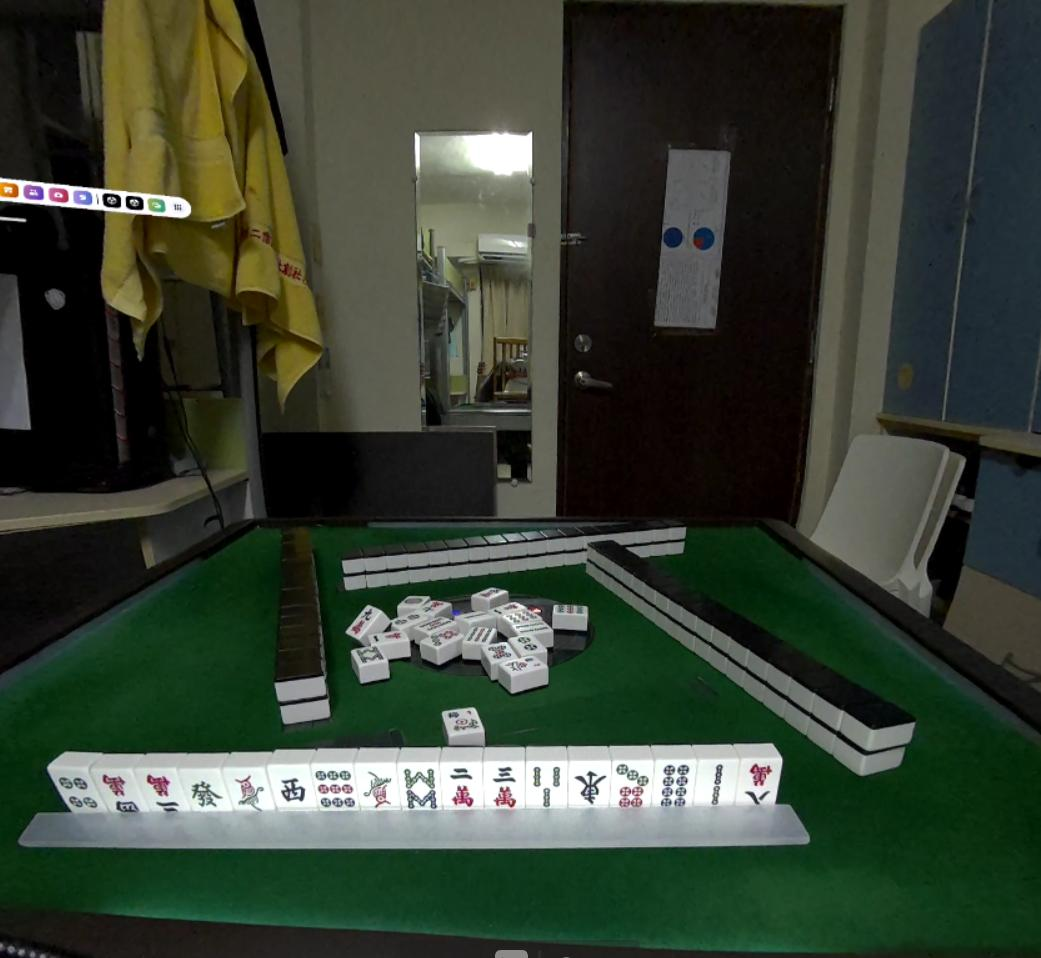mahjong: (177, 757, 231, 822), (309, 762, 360, 817), (730, 763, 783, 815), (221, 769, 274, 819), (266, 763, 314, 816), (520, 757, 566, 810), (54, 767, 102, 817), (694, 753, 735, 811), (97, 765, 141, 816), (140, 767, 184, 817), (400, 762, 441, 815), (613, 760, 657, 809), (356, 767, 395, 819), (570, 765, 611, 810), (486, 756, 520, 809), (659, 757, 694, 808), (446, 765, 479, 809)
